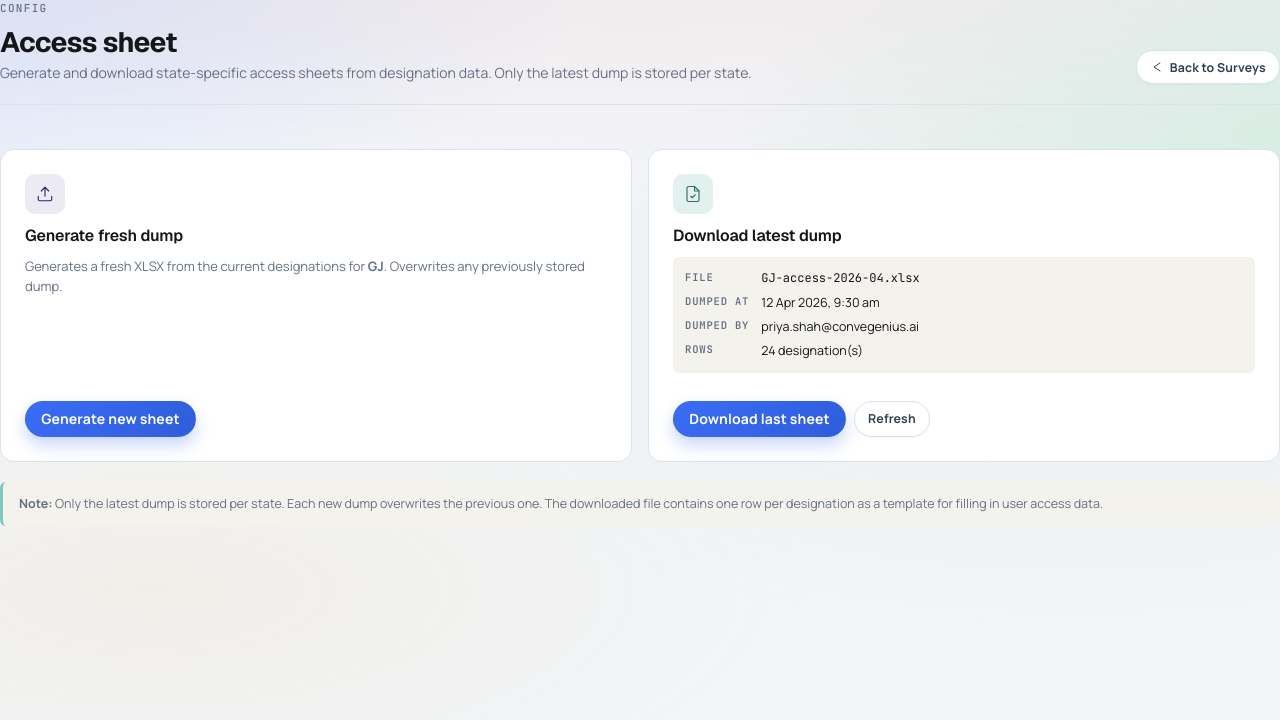
Test: AccessSheet — dump + download actions › dump returning ACCESS_SHEET_VALIDATION_FAILED shows the issues card with rows
Expected: the element with test id "as-meta" is shown, x1=673 y1=257 x2=1255 y2=373
Click the button with test id "as-dump": x=110, y=419 x1=25 y1=400 x2=196 y2=437
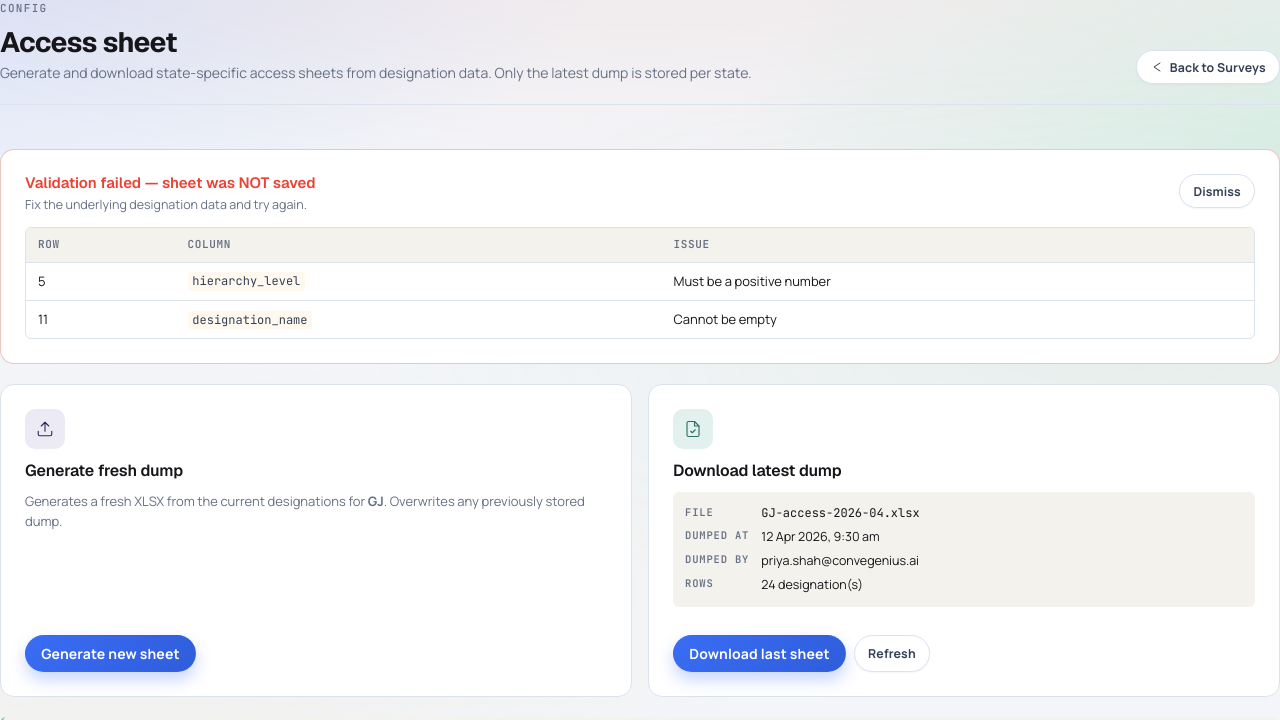
Expected: the message with test id "as-issues" shows "Validation failed", x1=25 y1=173 x2=316 y2=192
Expected: the table with test id "as-issues-table" shows "Must be a positive number", x1=674 y1=272 x2=831 y2=290
// Dismiss clears the card
Click the button with test id "as-issues-dismiss": x=1217, y=191 x1=1179 y1=174 x2=1255 y2=208
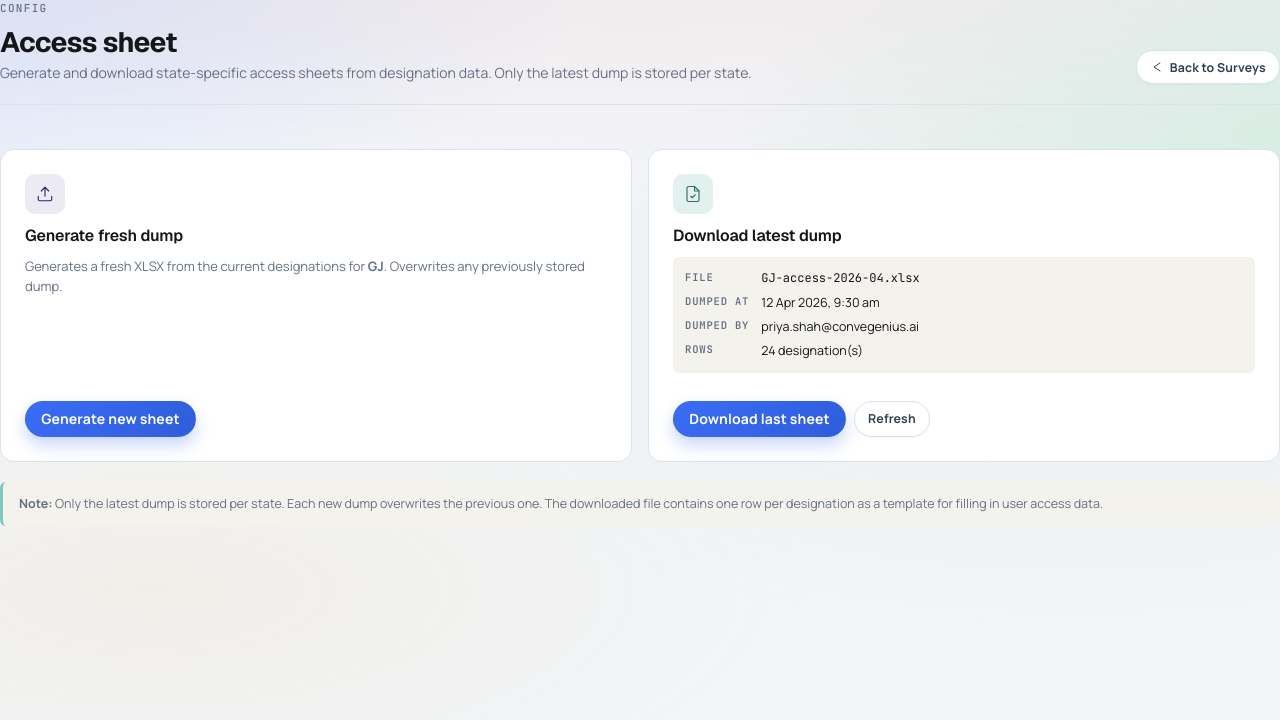
Expected: the message with test id "as-issues" is gone
